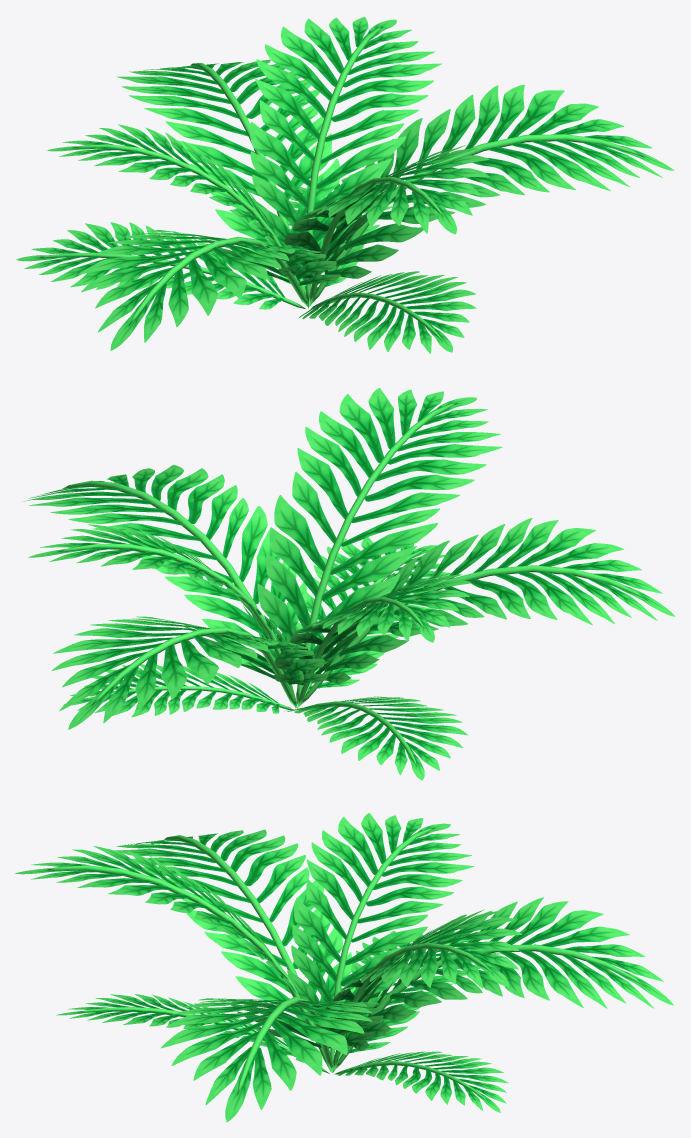
File: Plant_Mesh.FBX
The picture shows the model from 3 angles, top to bottom: view 1: azimuth 30°, elevation 25°; view 2: azimuth 150°, elevation 25°; view 3: azimuth 270°, elevation 25°; orthographic projection. The views are drawn at different scales.
Parts seen in each view (by area): view 1: Plane003; view 2: Plane003; view 3: Plane003.
Boxes of the visible parts, left/top/right/bottom form: Plane003: left=16, top=16, right=674, bottom=353; Plane003: left=22, top=388, right=675, bottom=780; Plane003: left=15, top=813, right=673, bottom=1122.
Bounding box in the file's own units: 505 × 174 × 492.
